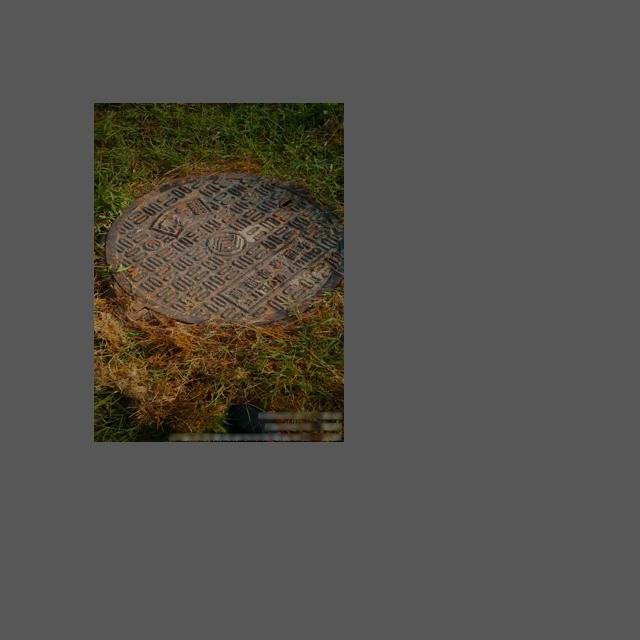good: (103, 173, 341, 327)
